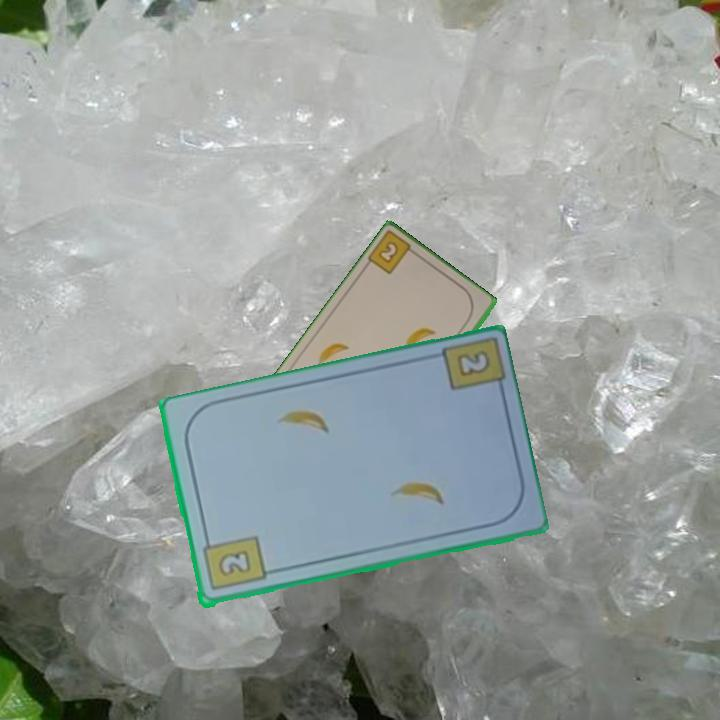2b: (199, 532, 268, 594), (364, 229, 422, 278), (453, 346, 493, 380)
